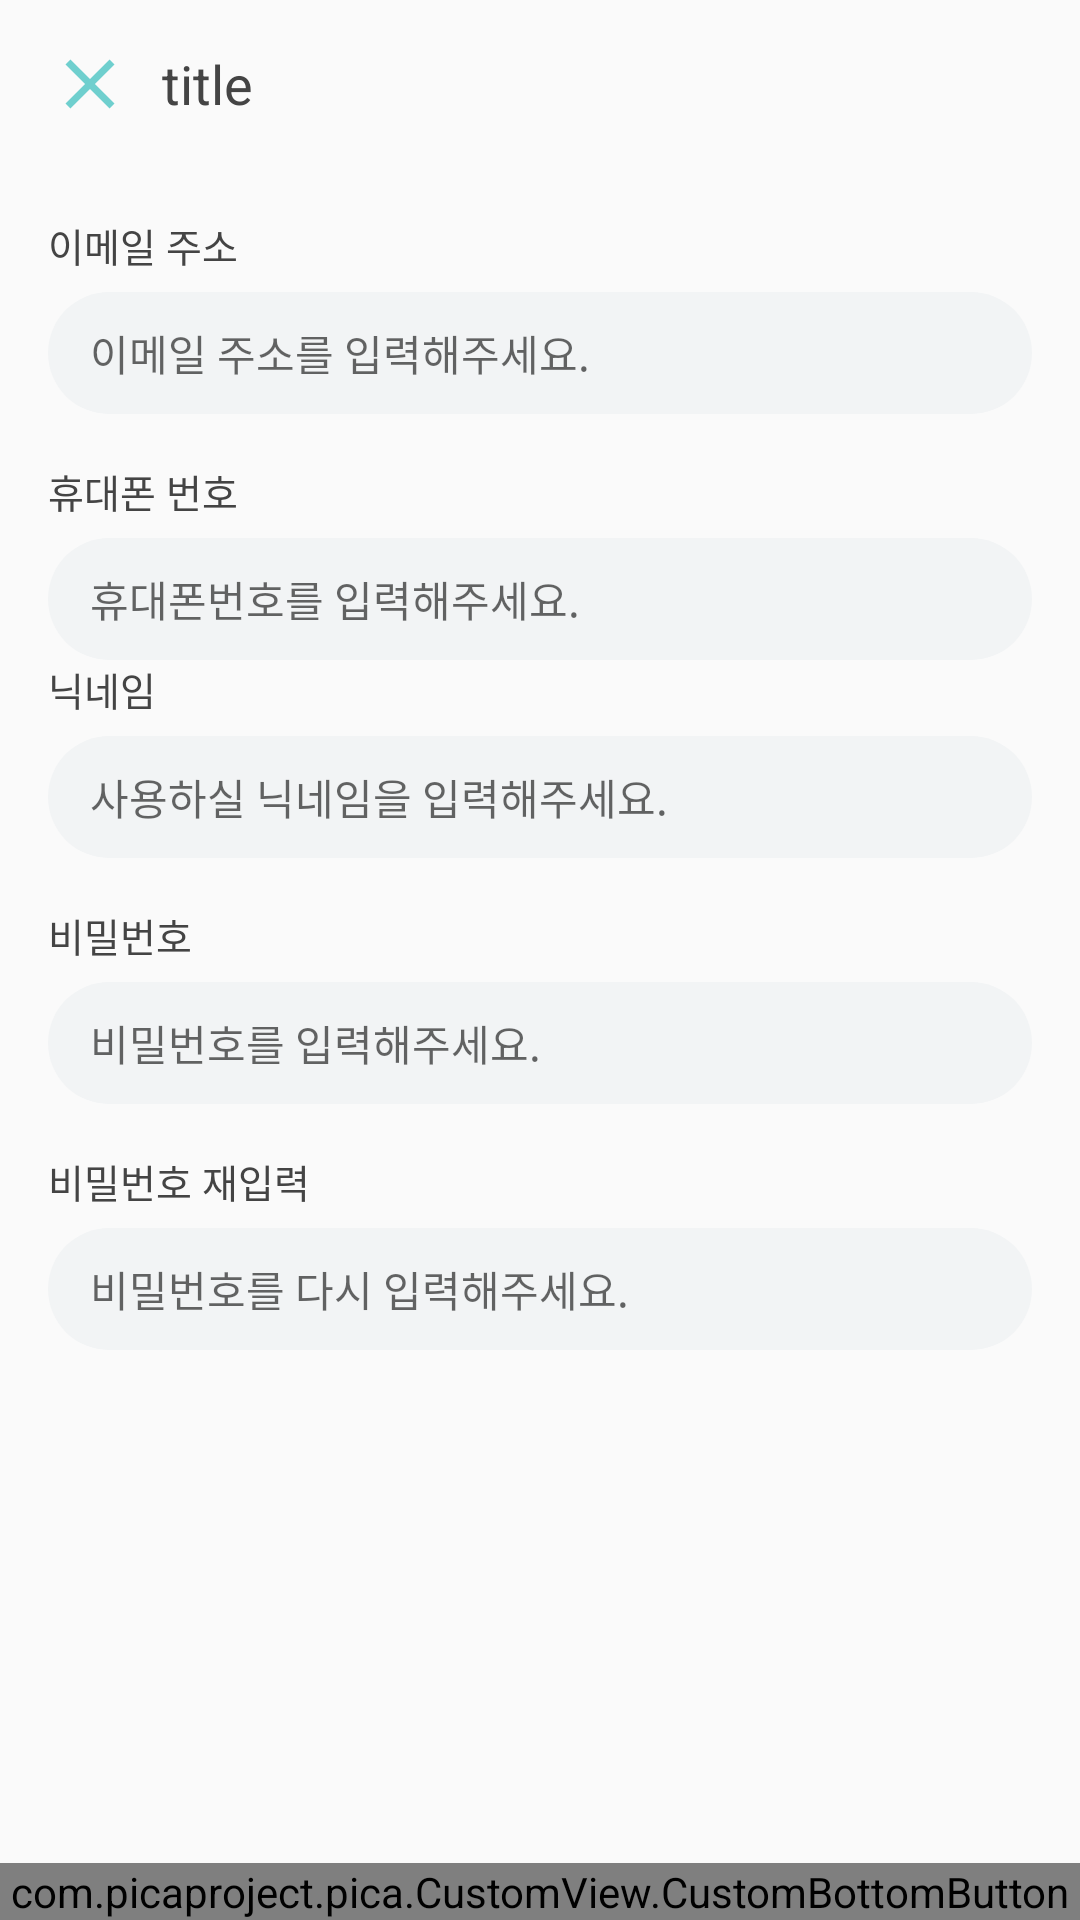

Locate icon controls on the screen. Image size 1080px x 1920px, boxes as (x1, y1, x2, y2).
close: (65, 59, 115, 109)
